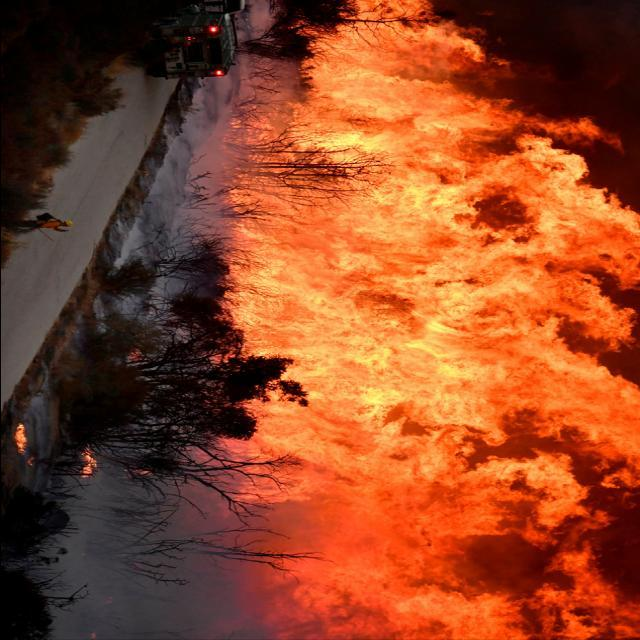Fire: (216, 8, 628, 640)
